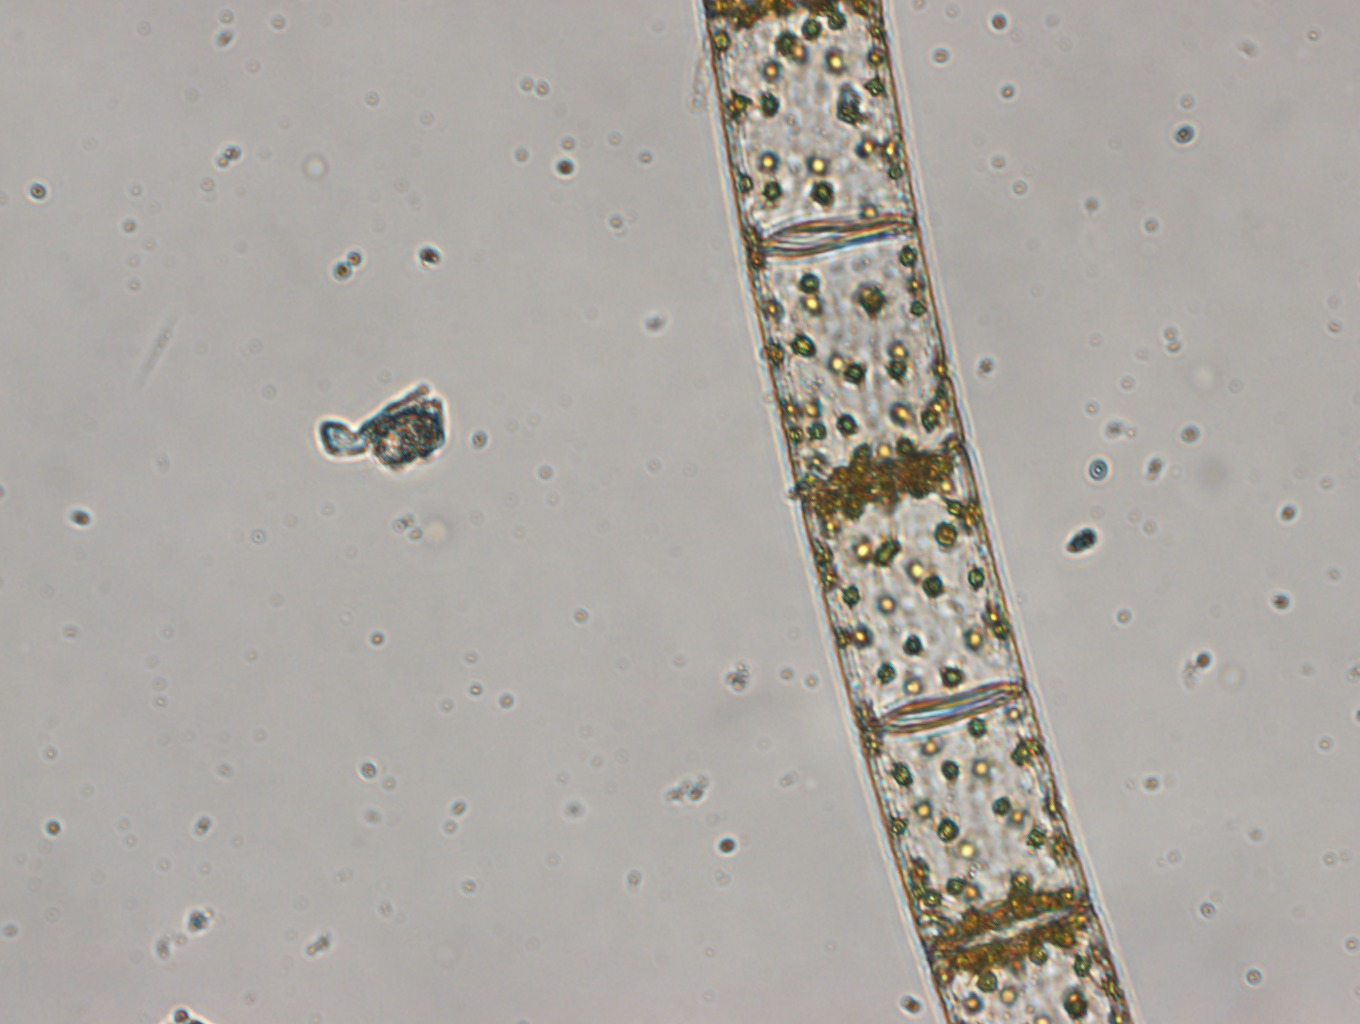guinardia flaccida: (695, 1, 1136, 1024)
